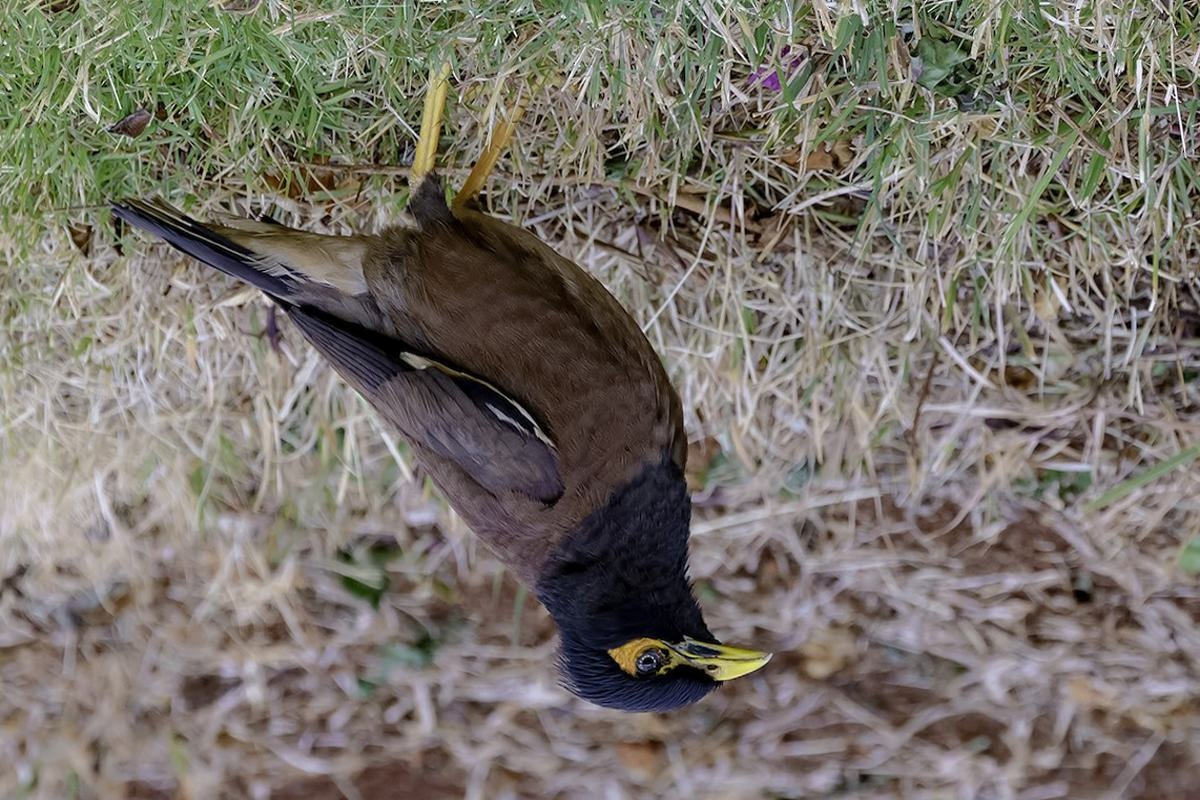myna: (307, 131, 795, 712)
